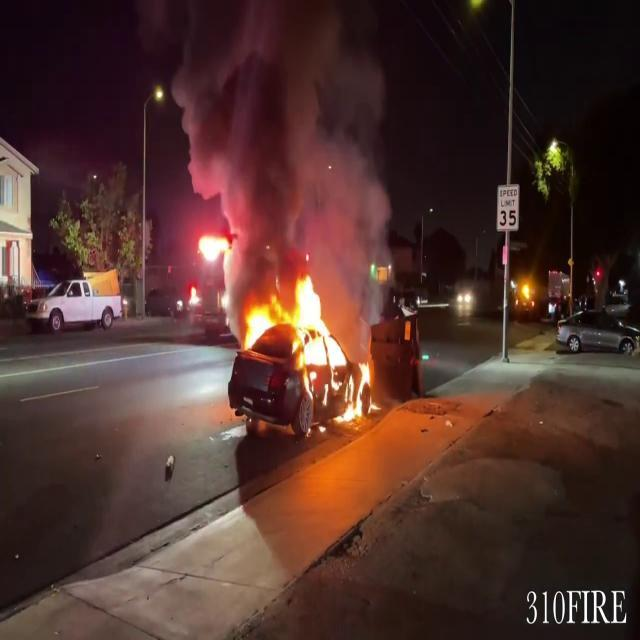Fire: (240, 267, 376, 427)
Smoke: (168, 0, 400, 254)
